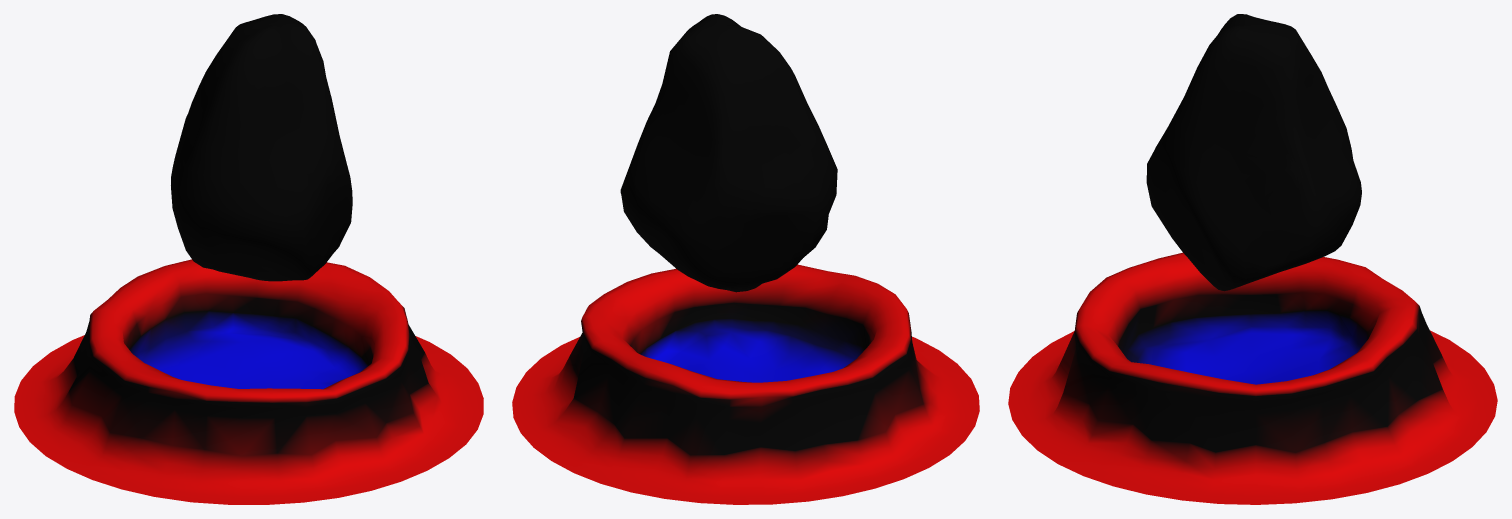
The model's file is GroundObject09D.fbx.
3 renders of one model, left to right at view 1: azimuth 30°, elevation 25°; view 2: azimuth 150°, elevation 25°; view 3: azimuth 270°, elevation 25°, orthographic. The views are drawn at different scales.
Visible parts, largest first — view 1: GroundObject09D; view 2: GroundObject09D; view 3: GroundObject09D.
Part boxes in pixels (x1,y1,x2,y2): GroundObject09D: (14, 14, 483, 504); GroundObject09D: (512, 14, 979, 504); GroundObject09D: (1008, 14, 1497, 504).
Bounding box in the file's own units: 1.68 × 1.48 × 1.68.
